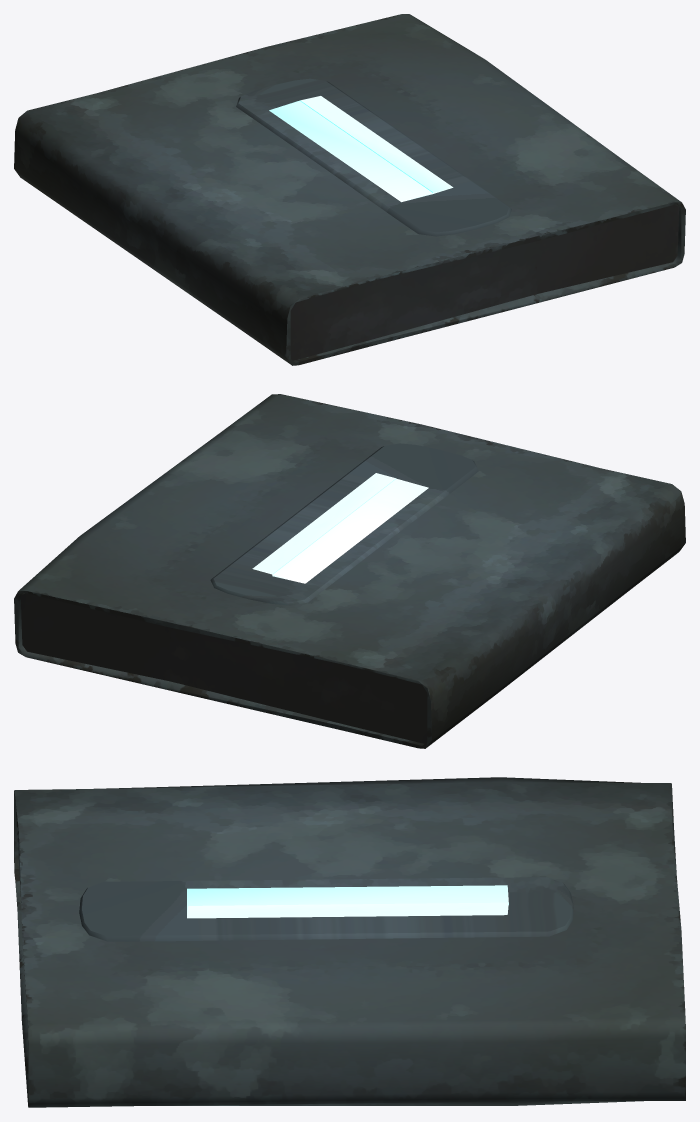
Rendered from Platform.gltf.
The picture shows the model from 3 angles, top to bottom: view 1: azimuth 30°, elevation 25°; view 2: azimuth 150°, elevation 25°; view 3: azimuth 270°, elevation 25°; orthographic projection. The views are drawn at different scales.
Parts seen in each view (by area): view 1: Platform; view 2: Platform; view 3: Platform.
Boxes of the visible parts, <box> form: Platform: <box>14,14,685,365</box>; Platform: <box>14,394,685,748</box>; Platform: <box>14,777,685,1107</box>.
Size of the model in its own units: 0.8836 by 0.1523 by 0.9737.
Materials: 4 (3 with a texture image).
